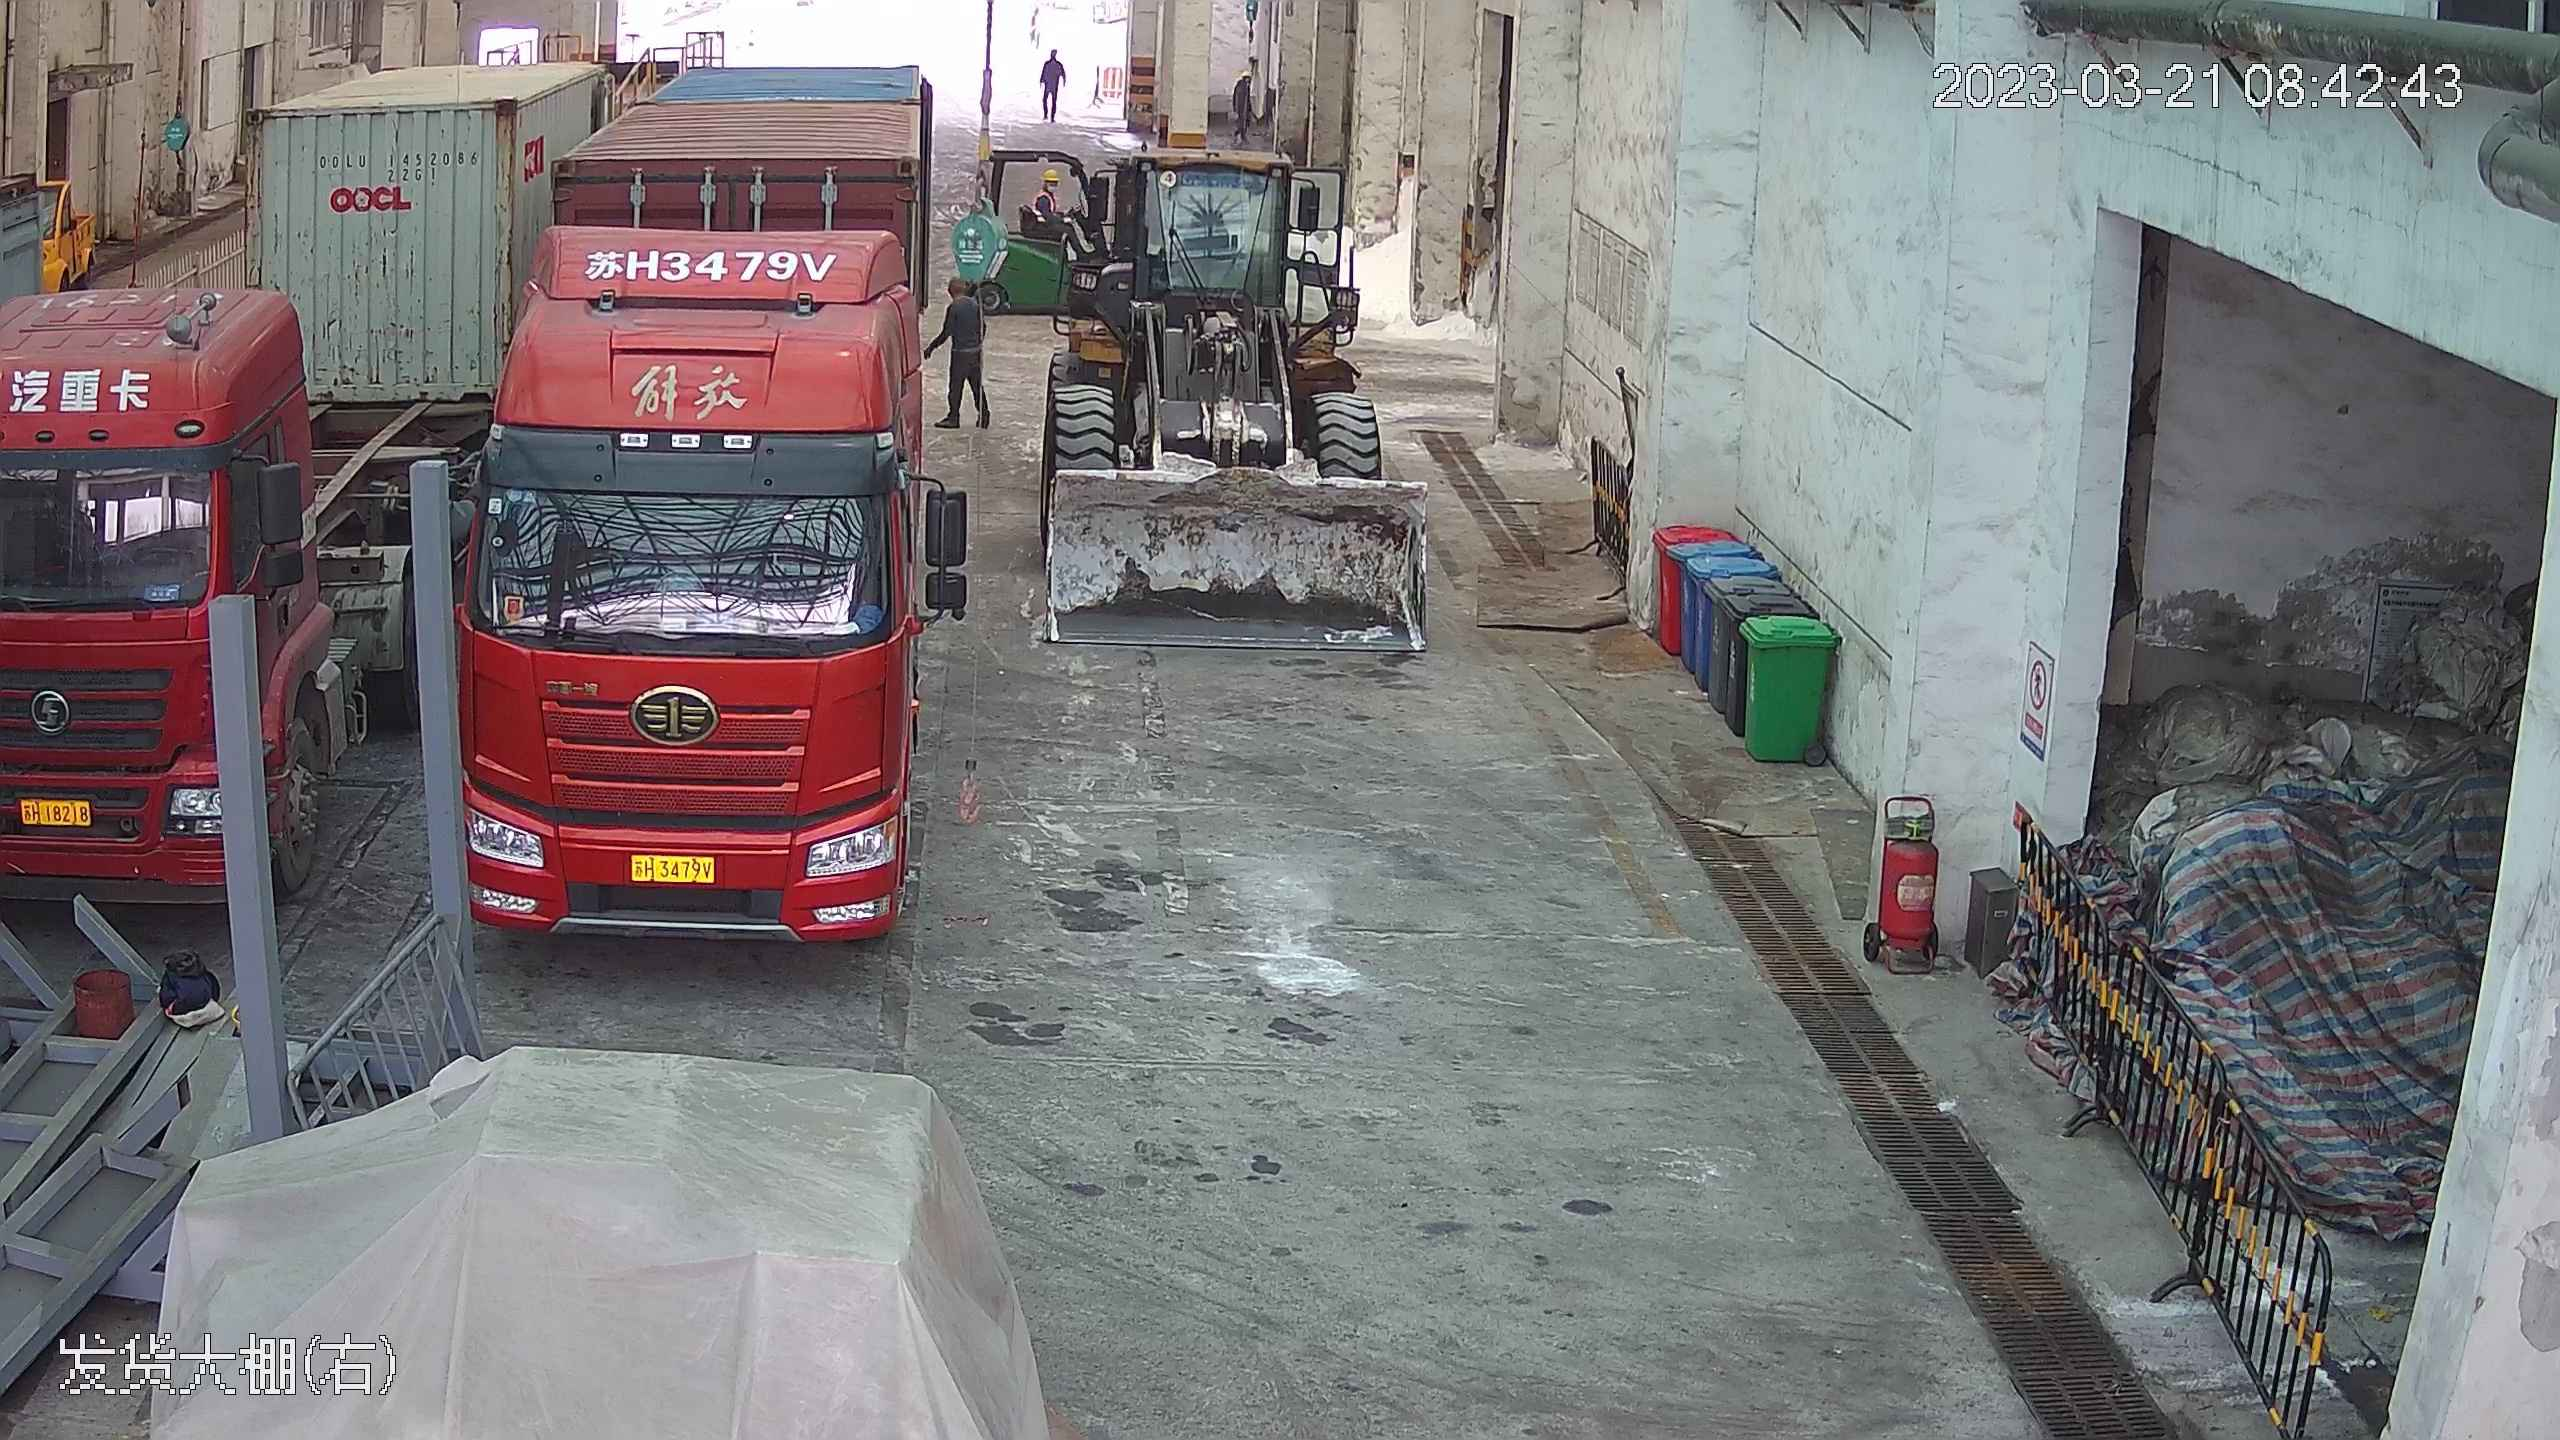head: (1025, 165, 1070, 215), (947, 265, 987, 317), (1234, 70, 1253, 98)
helmet: (1039, 162, 1065, 183), (1241, 69, 1253, 79)
people: (941, 264, 993, 428), (1037, 44, 1069, 123), (1230, 65, 1257, 143)
truck: (441, 42, 952, 948), (1, 95, 449, 883)
